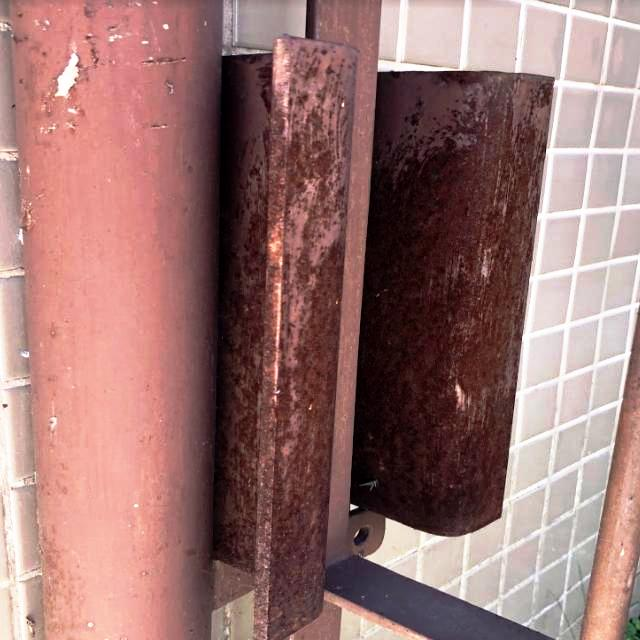Corrosion: (351, 72, 553, 536), (215, 50, 355, 640)
